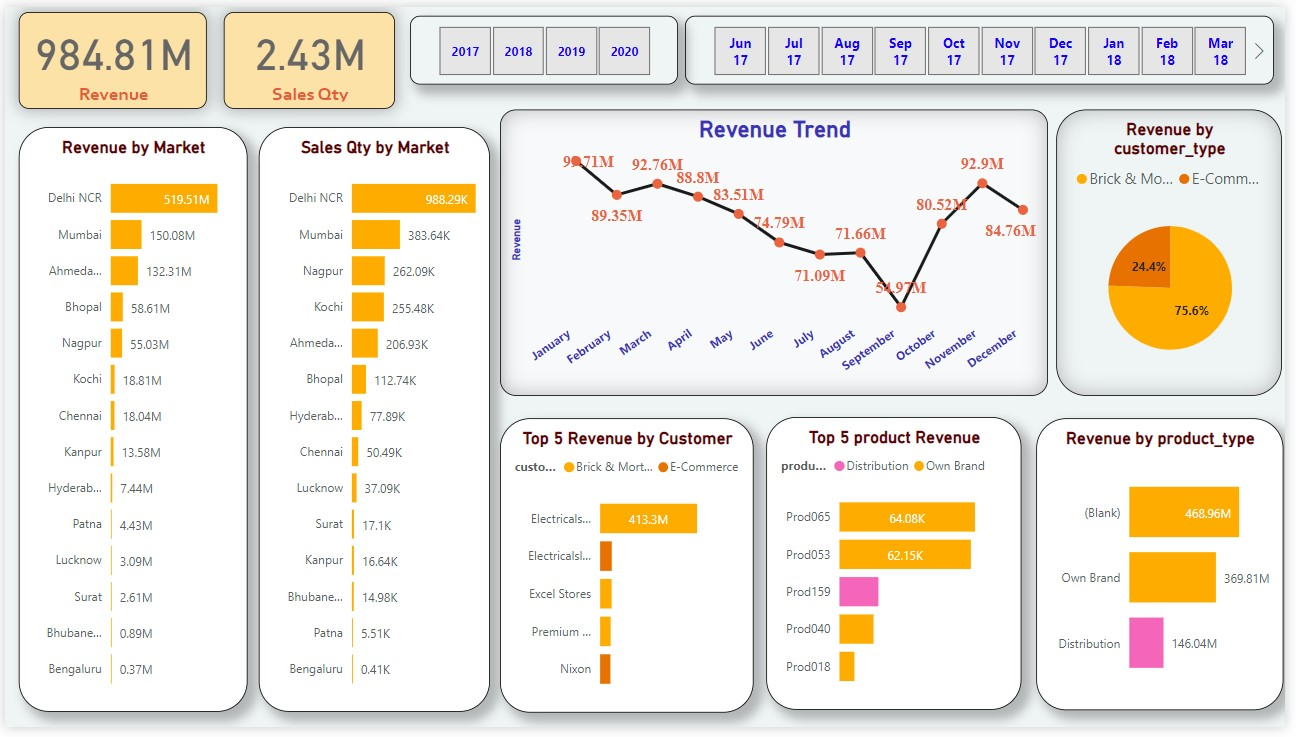

What the dashboard file says about the page in this screenshot:
{"tool":"powerbi","page":{"name":"Key Insights","canvas":[1280,720],"ordinal":0},"visuals":[{"type":"card","fields":{"Values":["BaseMeasure.Revenue"]},"box":[14,5.6,187.9,96.8],"z":0},{"type":"card","fields":{"Values":["BaseMeasure.Sales Qty"]},"box":[218.8,5.6,171.1,96.8],"z":1000},{"type":"barChart","title":"Revenue by Market","fields":{"Y":["BaseMeasure.Revenue"],"Category":["sales markets.markets_name"]},"box":[14,120.6,228.6,584.8],"z":2000},{"type":"barChart","title":"Sales Qty by Market","fields":{"Y":["BaseMeasure.Sales Qty"],"Category":["sales markets.markets_name"]},"box":[253.8,120.6,231.4,584.8],"z":3000},{"type":"slicer","fields":{"Values":["sales date.year"]},"box":[405.3,8.4,267.8,68.7],"z":4000},{"type":"slicer","fields":{"Values":["sales date.cy_date"]},"box":[680.1,8.4,589,68.7],"z":5000},{"type":"barChart","title":"Top 5 Revenue by Customer","fields":{"Y":["BaseMeasure.Revenue"],"Category":["sales customers.custmer_name"],"Series":["sales customers.customer_type"]},"box":[495,410.9,253.8,294.5],"z":6000},{"type":"barChart","title":"Top 5 product Revenue","fields":{"Category":["sales products.product_code"],"Y":["BaseMeasure.Sales Qty"],"Series":["sales products.product_type"]},"box":[761.4,409.5,255.2,293.1],"z":7000},{"type":"lineChart","title":"Revenue Trend","fields":{"Y":["BaseMeasure.Revenue"],"Category":["sales date.cy_date.Variation.Date Hierarchy.Year","sales date.cy_date.Variation.Date Hierarchy.Quarter","sales date.cy_date.Variation.Date Hierarchy.Month","sales date.cy_date.Variation.Date Hierarchy.Day"]},"box":[495,102.4,548.3,286.1],"z":8000},{"type":"pieChart","fields":{"Category":["sales customers.customer_type"],"Y":["BaseMeasure.Revenue"]},"box":[1051.7,102.4,225.8,286.1],"z":8001},{"type":"barChart","fields":{"Category":["sales products.product_type"],"Y":["BaseMeasure.Revenue"]},"box":[1030.7,410.9,246.8,291.7],"z":8002}]}

Visuals, with their boxes in screenshot pixels (x1, y1, x2, y2), scaled from the page's 1280x720 canvas onto the 1296x737 screenshot:
card - BaseMeasure.Revenue: {"x1": 14, "y1": 6, "x2": 204, "y2": 105}
card - BaseMeasure.Sales Qty: {"x1": 222, "y1": 6, "x2": 395, "y2": 105}
"Revenue by Market" barChart: {"x1": 14, "y1": 123, "x2": 246, "y2": 722}
"Sales Qty by Market" barChart: {"x1": 257, "y1": 123, "x2": 491, "y2": 722}
slicer - sales date.year: {"x1": 410, "y1": 9, "x2": 682, "y2": 79}
slicer - sales date.cy_date: {"x1": 689, "y1": 9, "x2": 1285, "y2": 79}
"Top 5 Revenue by Customer" barChart: {"x1": 501, "y1": 421, "x2": 758, "y2": 722}
"Top 5 product Revenue" barChart: {"x1": 771, "y1": 419, "x2": 1029, "y2": 719}
"Revenue Trend" lineChart: {"x1": 501, "y1": 105, "x2": 1056, "y2": 398}
pieChart - sales customers.customer_type x BaseMeasure.Revenue: {"x1": 1065, "y1": 105, "x2": 1293, "y2": 398}
barChart - sales products.product_type x BaseMeasure.Revenue: {"x1": 1044, "y1": 421, "x2": 1293, "y2": 719}
